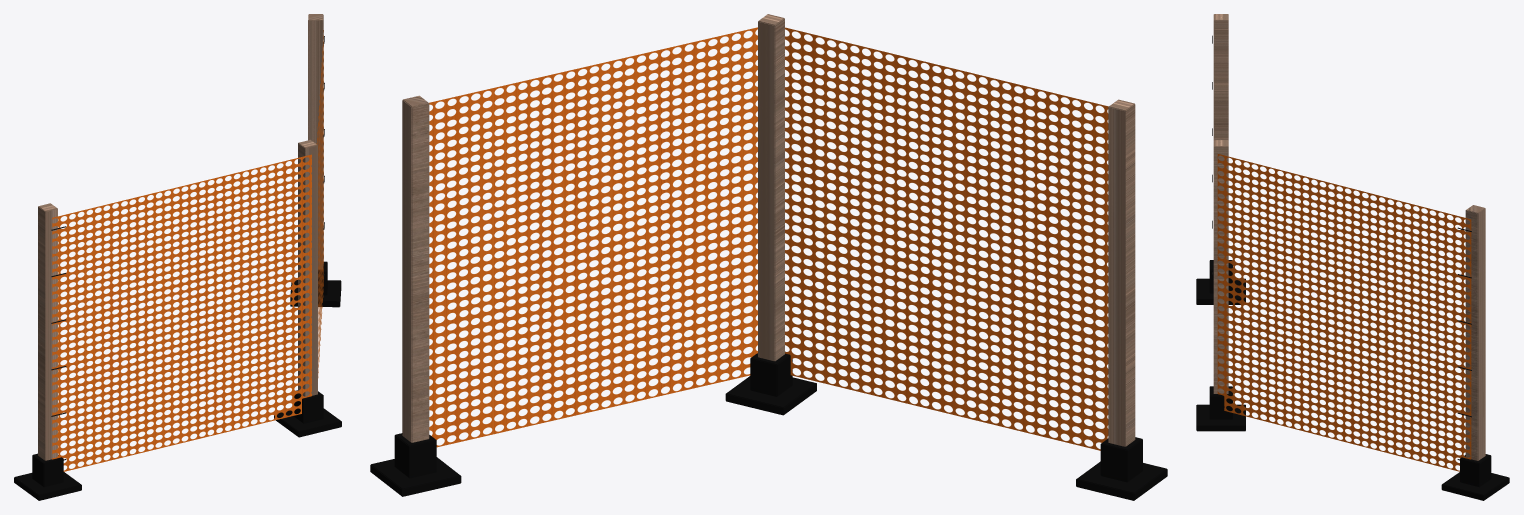
The model's file is obj_mesh_corner.glb.
The picture shows the model from 3 angles, left to right: view 1: azimuth 30°, elevation 25°; view 2: azimuth 150°, elevation 25°; view 3: azimuth 270°, elevation 25°; orthographic projection. The views are drawn at different scales.
Visible parts, largest first — view 1: mesh, mesh_corner_body, mesh2; view 2: mesh2, mesh, mesh_corner_body; view 3: mesh2, mesh_corner_body.
Part boxes in pixels (x1,y1,x2,y2): mesh: (52, 154, 311, 471); mesh_corner_body: (14, 14, 341, 500); mesh2: (316, 30, 323, 377); mesh2: (429, 27, 757, 447); mesh: (785, 27, 1108, 450); mesh_corner_body: (370, 14, 1167, 500); mesh2: (1217, 154, 1471, 471); mesh_corner_body: (1196, 14, 1509, 500).
Size of the model in its own units: 3.1 by 1.85 by 1.89.
Materials: 3 (2 with a texture image).
